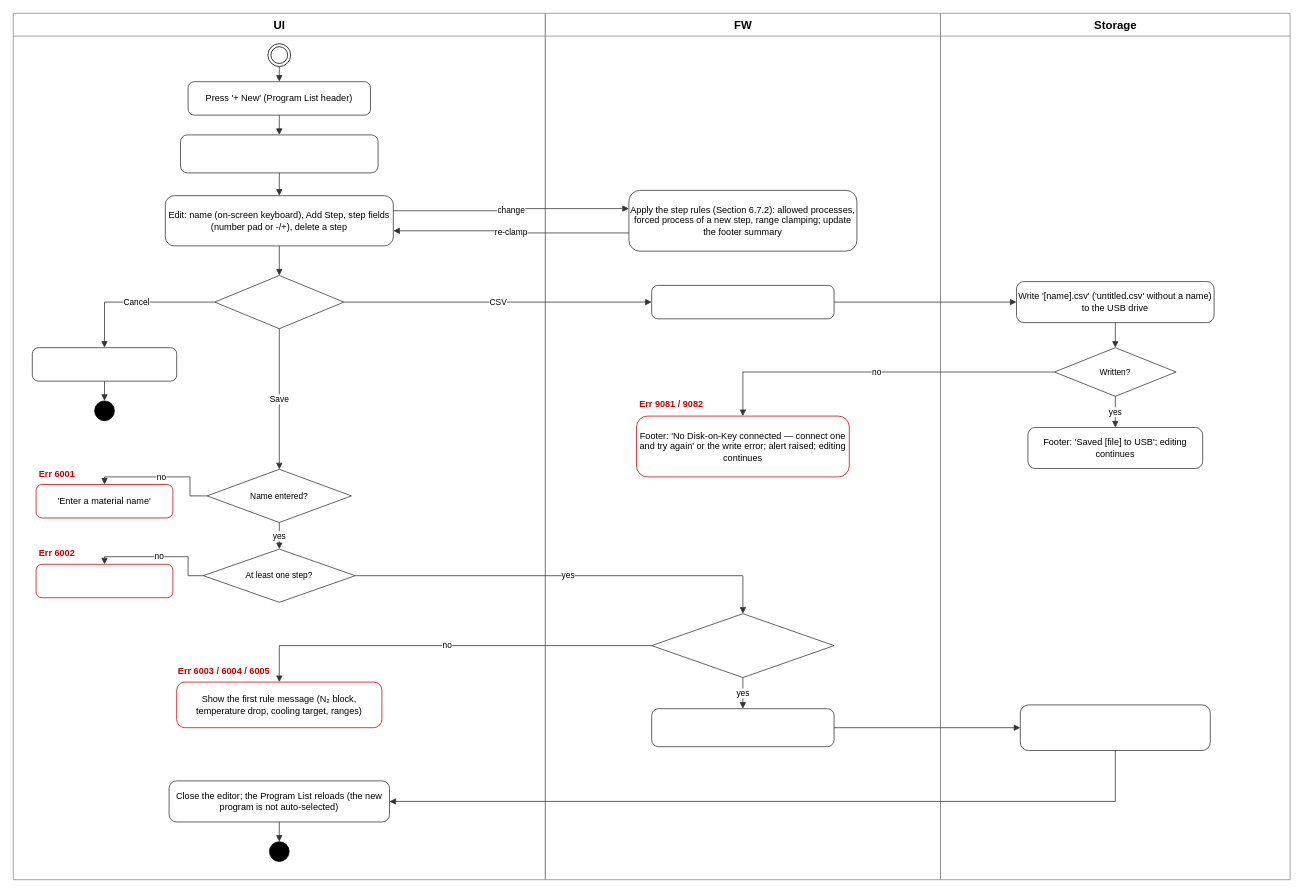
This 1303x893 diagram has some shape labels left out. The shapes that lost their labels are listed below. From the top down, each one's centre as x and y in pixels, then its label:
[279,153]: Open 'Build Cure Program': empty name, no steps
[279,302]: Action?
[742,302]: Build the 10-column CSV of the steps
[104,364]: Cancel: close, nothing saved
[104,581]: 'Add at least one step'
[742,645]: Program passes every program rule?
[742,727]: Compute the program estimate (totalDuration)
[1115,727]: Save as a user program (new id, or replace the edited one by id)
